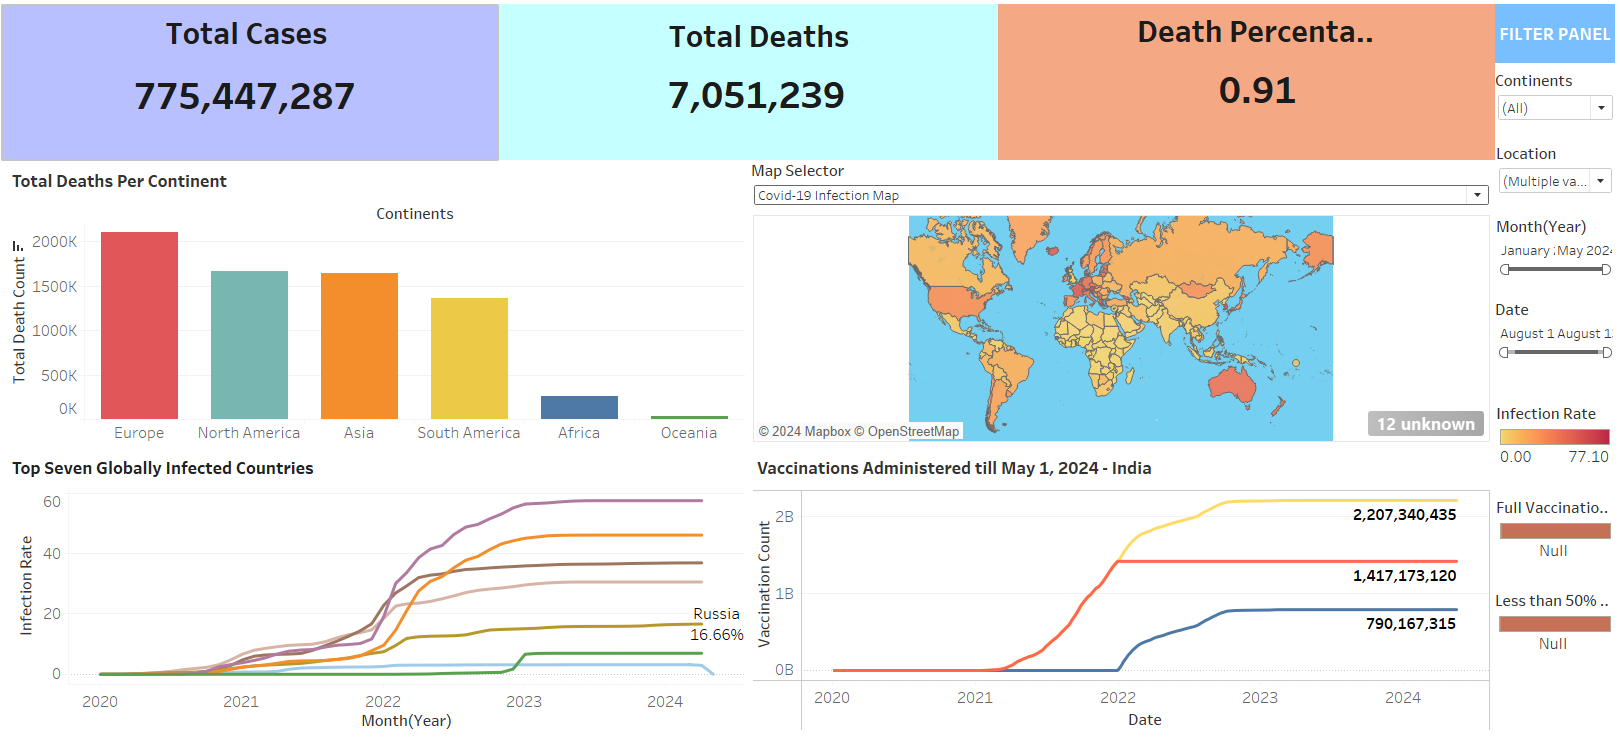

Layout of this report page (visuals, bound fields, positions):
{"tool":"tableau","page":{"name":"Dashboard 2","canvas":[1000,1000],"units":"permille","ordinal":1},"visuals":[{"type":"blank","box":[308.7,10.7,306.9,208.8]},{"type":"blank","box":[615.6,10.7,305.1,208.8]},{"type":"text","box":[920.7,10.7,73.9,79]},{"type":"blank","box":[4.2,13.4,303.3,204.8]},{"type":"text","box":[94.2,13.4,119.8,68.3]},{"type":"text","box":[410.6,13.4,116.8,76.3]},{"type":"text","box":[694.7,13.4,166.5,68.3]},{"type":"text","box":[736,80.3,78.1,85.7]},{"type":"text","box":[77.4,83,151.1,95]},{"type":"text","box":[399.9,89.7,134.7,80.3]},{"type":"filter","title":"Sheet 2","param":"[federated.1wt1pql0g3v41a15z6jaz0rk241z].[none:location:nk]","box":[920.7,99.1,74.5,84.3]},{"type":"filter","title":"Sheet 4","param":"[federated.1t8ocvw10widse1bjurdl0y3q5hg].[none:location:nk]","box":[921.3,196.8,73.3,73.6]},{"type":"parameter","param":"[Parameters].[Parameter 1]","box":[463.7,219.5,455.3,73.6]},{"type":"worksheet","title":"Sheet 2","mark":"Automatic","rows":["TotalDeathCount"],"cols":["location"],"box":[4.9,220.6,457.6,384.2]},{"type":"worksheet","title":"Sheet 3","mark":"Automatic","box":[462.5,220.6,458.8,381.5]},{"type":"filter","title":"Sheet 4","param":"[federated.1t8ocvw10widse1bjurdl0y3q5hg].[tmn:date:qk]","box":[921.3,294.5,73.3,93.7]},{"type":"filter","title":"Sheet 7","param":"[federated.0exafp30veyme31d7q5lt0nsdvhd].[tdy:date:qk]","box":[920.7,405.6,74.5,95]},{"type":"legend","title":"Sheet 3","param":"[federated.0kp8ir50qrap6l1bernft1j6ppgl].[sum:Highest_Infection_Rate:qk]","box":[921.3,544.9,72.7,93.7]},{"type":"worksheet","title":"Sheet 5","mark":"Automatic","box":[462.5,602.2,458.8,1.3]},{"type":"worksheet","title":"Sheet 6","mark":"Automatic","box":[462.5,603.5,458.8,1.3]},{"type":"worksheet","title":"Sheet 4","mark":"Automatic","rows":["Highest_Infection_Rate"],"cols":["date"],"box":[4.9,604.8,457.6,384.4]},{"type":"worksheet","title":"Sheet 7","mark":"Automatic","rows":["Full_Vaccination_Count"],"cols":["date"],"box":[462.5,604.8,458.8,384.4]},{"type":"legend","title":"Sheet 6","param":"[federated.09ohljt1tntq451095iph1sn1p5h].[max:Full_Vaccination_Percentage:qk]","box":[921.3,670.7,73.3,100.4]},{"type":"legend","title":"Sheet 5","param":"[federated.09ohljt1tntq451095iph1sn1p5h].[max:Full_Vaccination_Percentage:qk]","box":[920.8,795.2,73.7,117.8]}]}

Visuals, with their boxes on the dashboard's canvas, which has no fixed pixel size, in thousandths of its width and height (x1, y1, x2, y2). These are canvas units, not pixel positions in the 1620x740 screenshot, which may show the page scaled, cropped or inside an application window:
blank: 309:11:616:220
blank: 616:11:921:220
text: 921:11:995:90
blank: 4:13:308:218
text: 94:13:214:82
text: 411:13:527:90
text: 695:13:861:82
text: 736:80:814:166
text: 77:83:228:178
text: 400:90:535:170
"Sheet 2" filter: 921:99:995:183
"Sheet 4" filter: 921:197:995:270
parameter: 464:220:919:293
"Sheet 2" worksheet: 5:221:462:605
"Sheet 3" worksheet: 462:221:921:602
"Sheet 4" filter: 921:294:995:388
"Sheet 7" filter: 921:406:995:501
"Sheet 3" legend: 921:545:994:639
"Sheet 5" worksheet: 462:602:921:604
"Sheet 6" worksheet: 462:604:921:605
"Sheet 4" worksheet: 5:605:462:989
"Sheet 7" worksheet: 462:605:921:989
"Sheet 6" legend: 921:671:995:771
"Sheet 5" legend: 921:795:994:913
